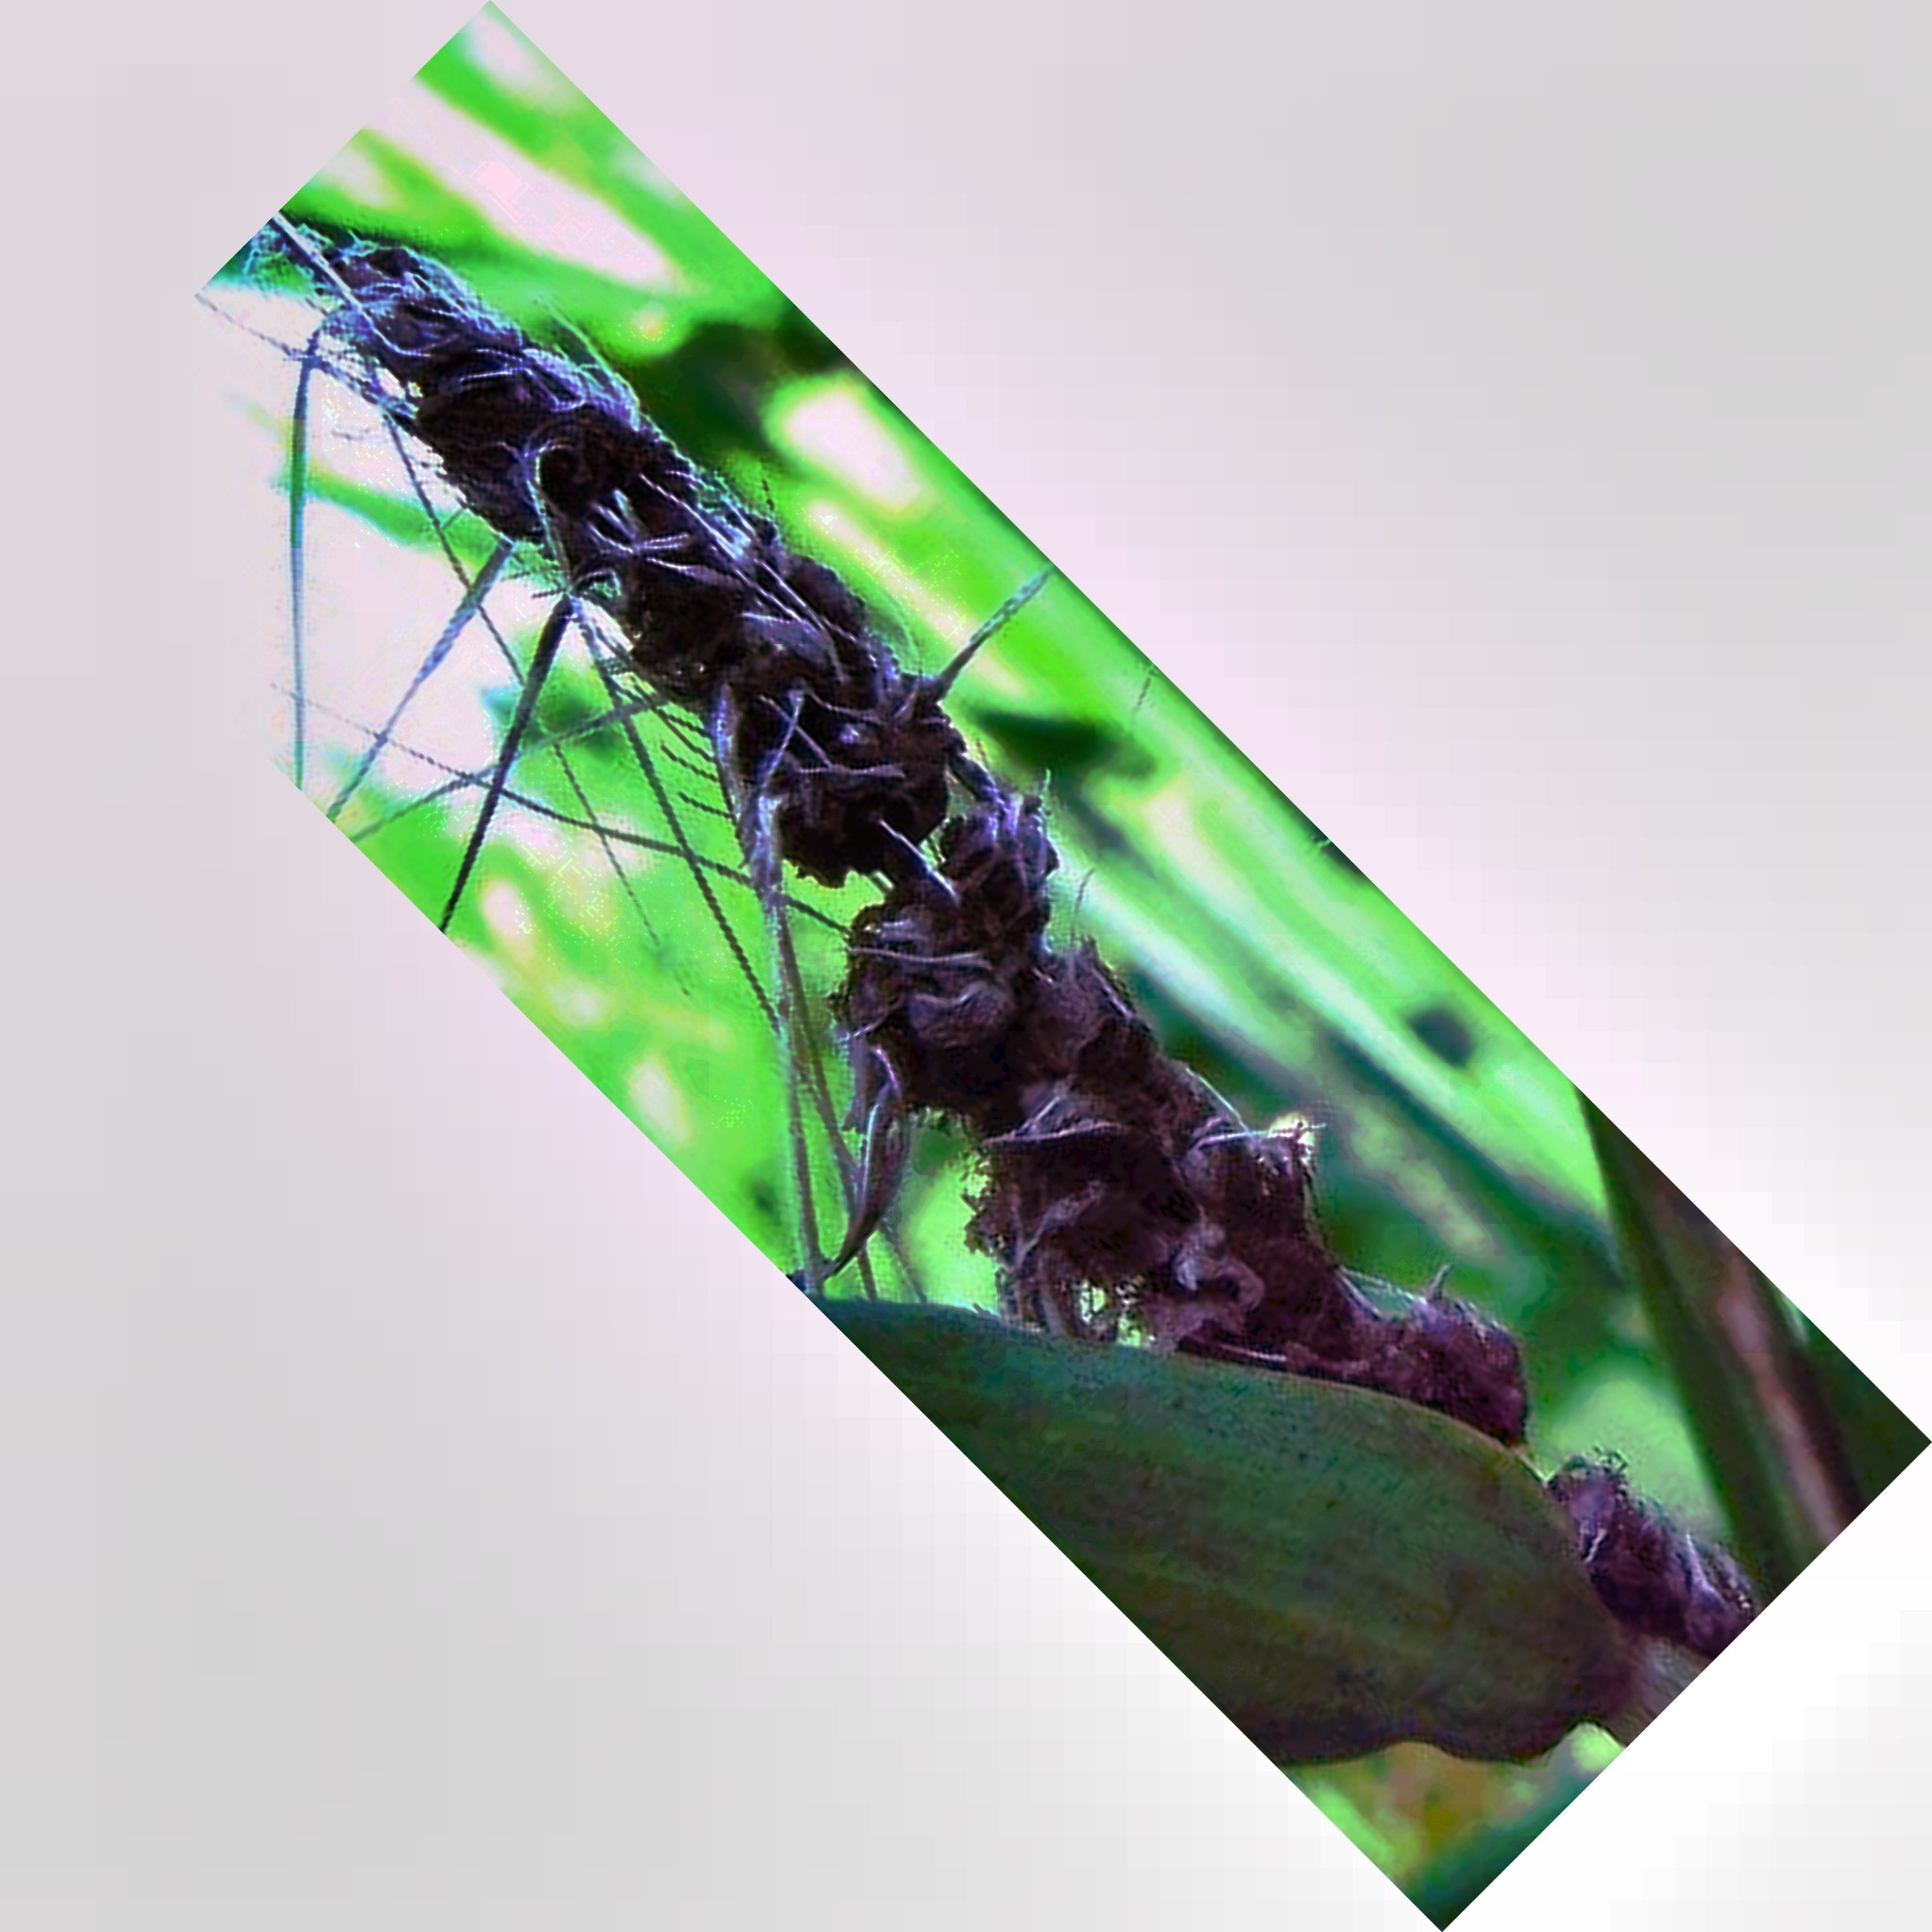Wheat Loose Smut: (310, 228, 1184, 1212)
